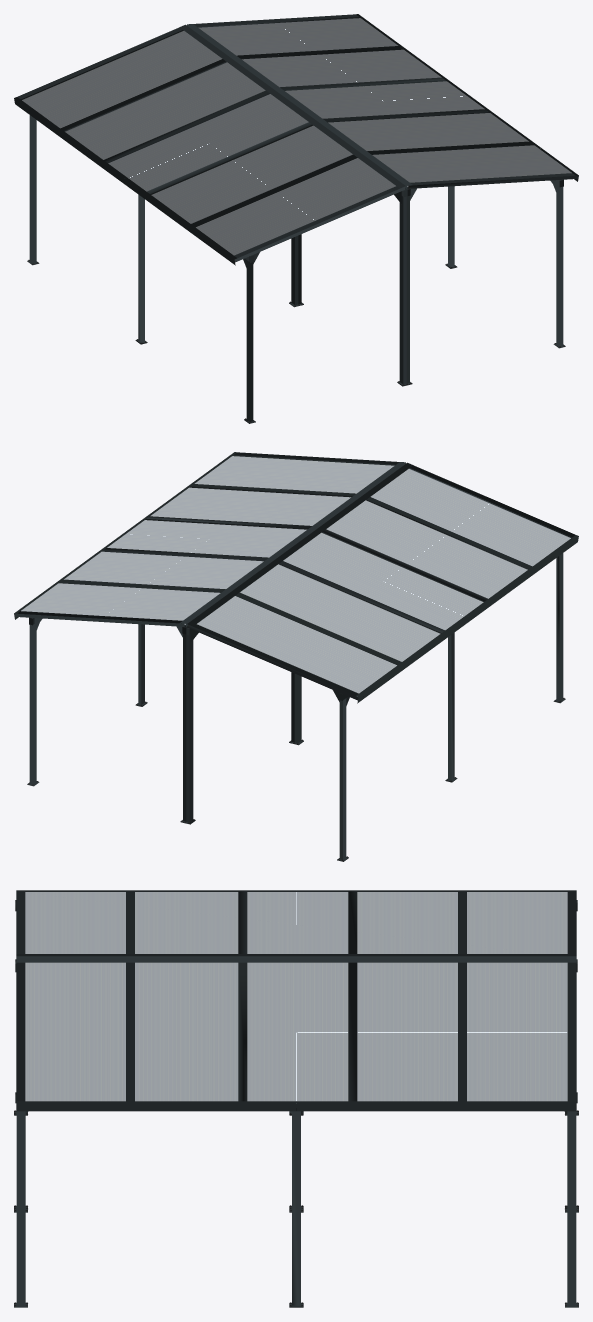
3 views of the same model, one above another, from view 1: azimuth 30°, elevation 25°; view 2: azimuth 150°, elevation 25°; view 3: azimuth 270°, elevation 25° (orthographic). The views are drawn at different scales.
Visible parts, largest first — view 1: priximbattable_net_abris_de_voiture_13481_carport_double_alu; view 2: priximbattable_net_abris_de_voiture_13481_carport_double_alu; view 3: priximbattable_net_abris_de_voiture_13481_carport_double_alu.
Part boxes in pixels (box(x1,y1,x2,y2)): priximbattable_net_abris_de_voiture_13481_carport_double_alu: box(14, 14, 578, 423); priximbattable_net_abris_de_voiture_13481_carport_double_alu: box(14, 452, 578, 861); priximbattable_net_abris_de_voiture_13481_carport_double_alu: box(14, 890, 578, 1307).
Bounding box in the file's own units: 450 × 248 × 503.
Materials: 1 (1 with a texture image).
